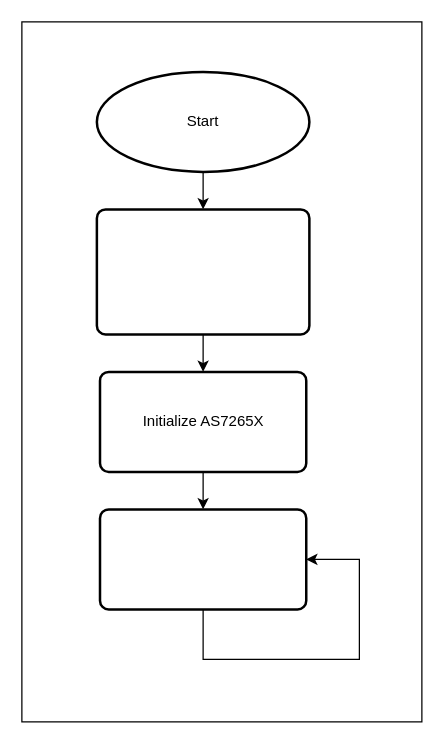
The diagram is 444 pixels wide and 744 high, and some of its shapes have lost their labels. Here are the shapes that lost their labels. From the top down, the box of each, then its label:
(95, 208, 310, 335): Initialize I2CSPM
(98, 508, 307, 610): Process test function
